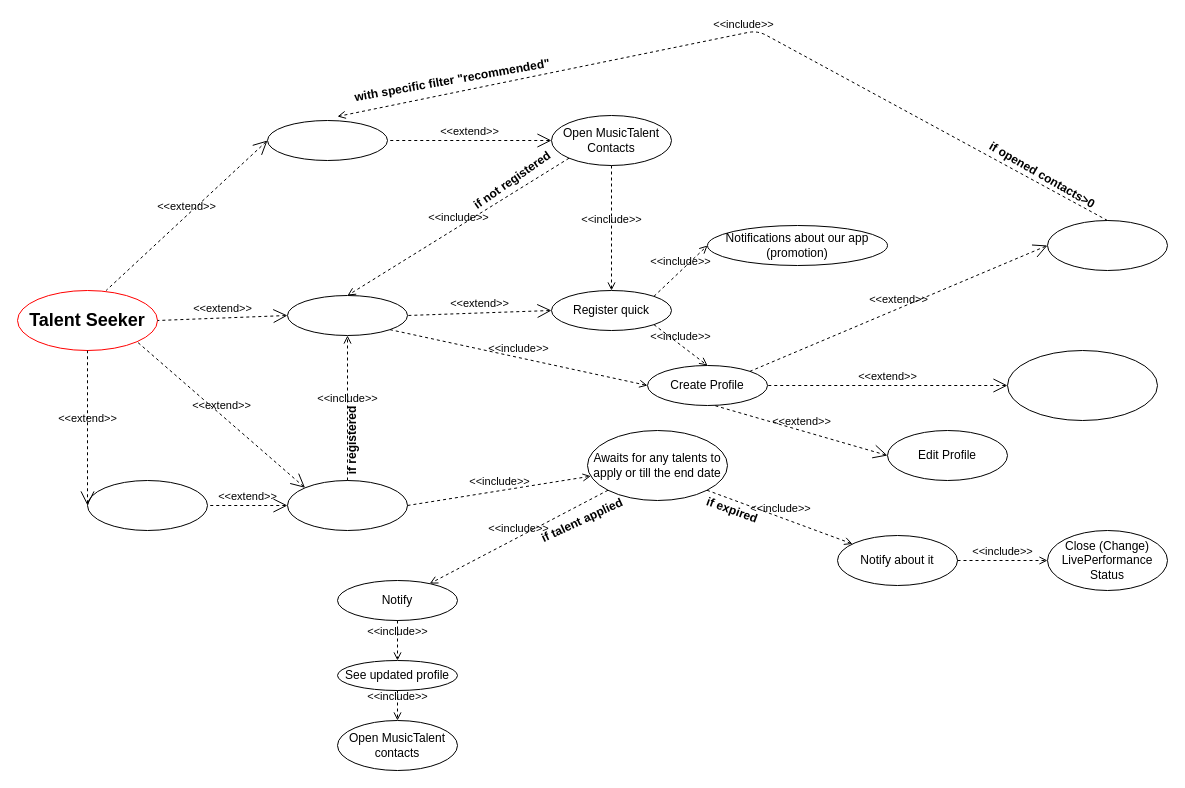
Some shapes in this 1185 by 788 pixel diagram are drawn without their labels. The centre of each missing label's shape, as x and y in pixels:
Click "get recommended MusicTalents": [1107,245]
Create LivePerformance order: [347,505]
Register: [347,315]
View other LivePerformances: [147,505]
View other MusicTalents: [327,140]
View/Edit/Delete LivePerformances Upcoming or History: [1082,385]
